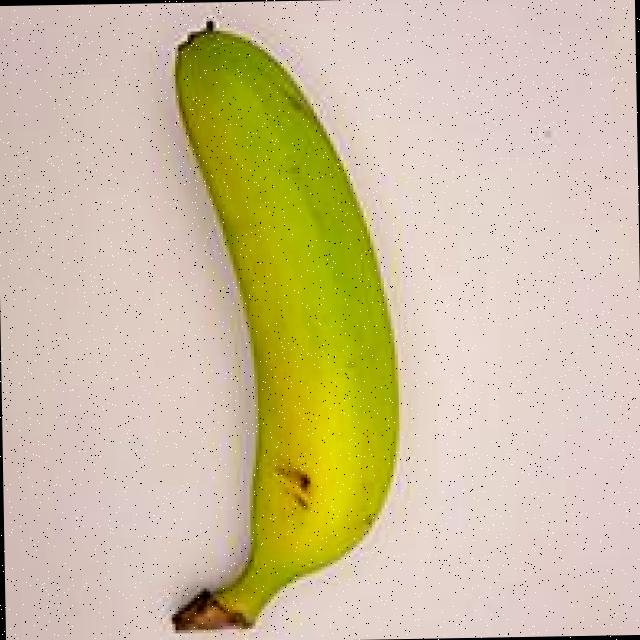Unripe: (61, 0, 440, 640)
